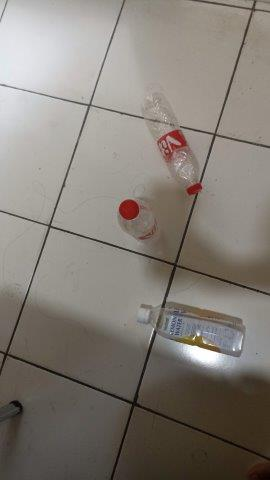botolplastik: (144, 94, 203, 196), (136, 306, 247, 357), (118, 198, 160, 242)
